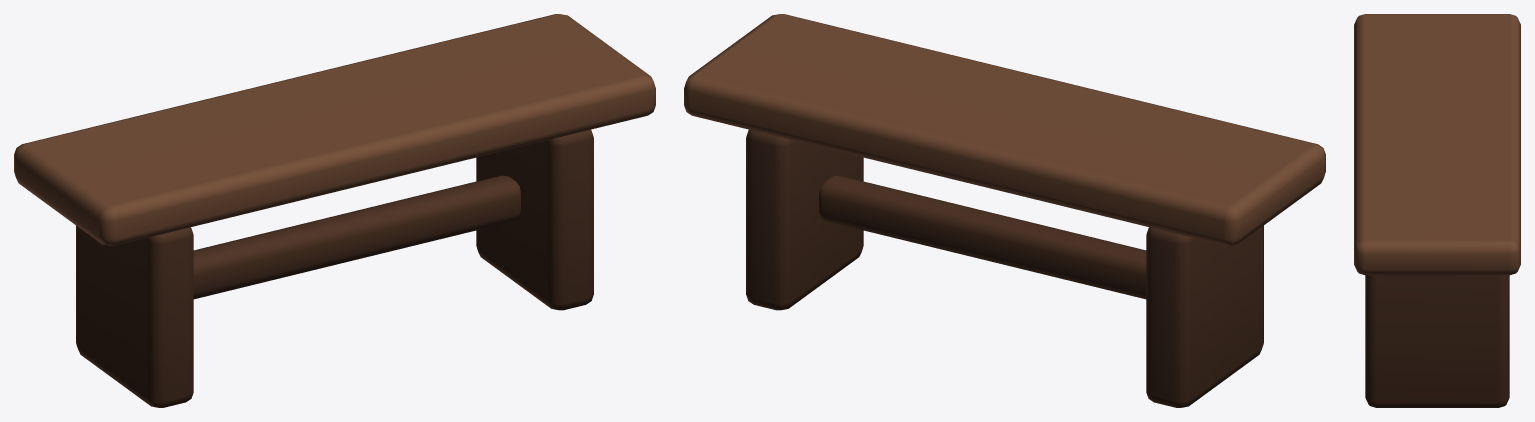
Rendered from hall_bench.glb.
3 views of the same model, side by side, from view 1: azimuth 30°, elevation 25°; view 2: azimuth 150°, elevation 25°; view 3: azimuth 270°, elevation 25° (orthographic). The views are drawn at different scales.
Visible parts, largest first — view 1: hall_bench; view 2: hall_bench; view 3: hall_bench.
Boxes of the visible parts, left/top/right/bottom form: hall_bench: left=14, top=14, right=655, bottom=407; hall_bench: left=684, top=14, right=1325, bottom=407; hall_bench: left=1354, top=14, right=1520, bottom=407.
Bounding box in the file's own units: 1 × 0.38 × 0.3.
